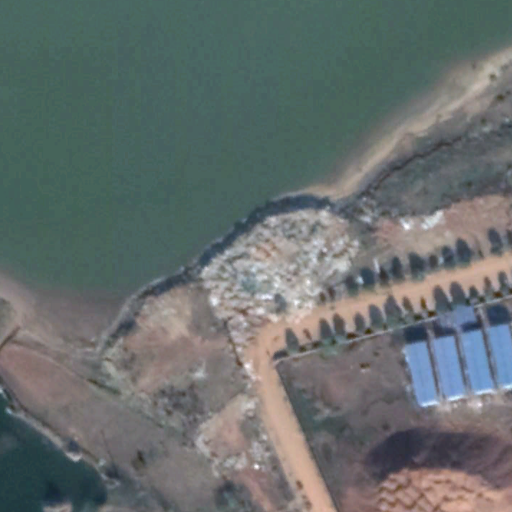msw: (212, 207, 370, 332)
